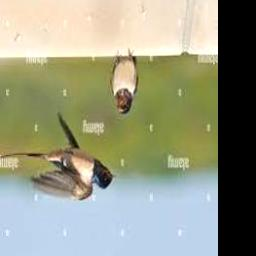Swallow: (0, 112, 114, 200), (111, 52, 138, 115)
